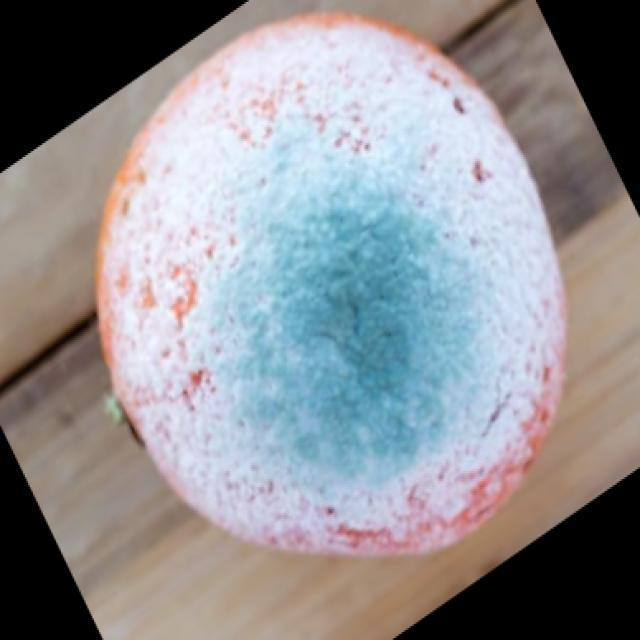sangat-busuk: (107, 21, 564, 559)
